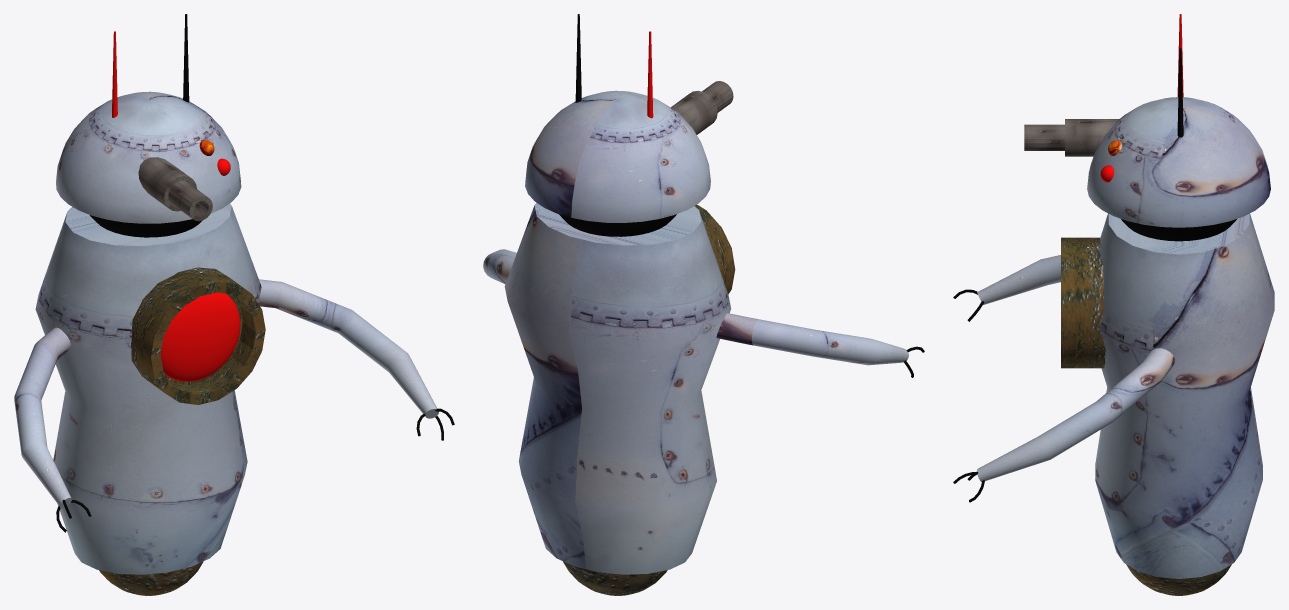
File: Robot.fbx
3 views of the same model, side by side, from view 1: azimuth 30°, elevation 25°; view 2: azimuth 150°, elevation 25°; view 3: azimuth 270°, elevation 25° (orthographic).
Parts seen in each view (by area): view 1: Cylinder001, Sphere001, Cylinder007, Cylinder014, Sphere006, Cylinder002, Cylinder004, Sphere002, Sphere003; view 2: Cylinder001, Sphere001, Cylinder002, Cylinder004, Sphere002, Sphere003, Cylinder007, Cylinder014; view 3: Cylinder001, Sphere001, Cylinder014, Cylinder007, Cylinder004, Cylinder002, Sphere002, Sphere003.
Part boxes in pixels (bbox=[...]): Cylinder001: bbox=[35, 203, 261, 574]; Sphere001: bbox=[56, 91, 241, 223]; Cylinder007: bbox=[131, 267, 265, 404]; Cylinder014: bbox=[258, 279, 438, 418]; Sphere006: bbox=[160, 292, 240, 381]; Cylinder002: bbox=[14, 327, 71, 508]; Cylinder004: bbox=[138, 157, 212, 221]; Sphere002: bbox=[99, 561, 203, 595]; Sphere003: bbox=[90, 215, 201, 237]; Cylinder001: bbox=[504, 203, 731, 574]; Sphere001: bbox=[525, 90, 710, 222]; Cylinder002: bbox=[716, 313, 908, 365]; Cylinder004: bbox=[671, 81, 733, 134]; Sphere002: bbox=[563, 561, 667, 595]; Sphere003: bbox=[559, 214, 676, 236]; Cylinder007: bbox=[695, 204, 735, 294]; Cylinder014: bbox=[483, 249, 516, 284]; Cylinder001: bbox=[1095, 213, 1274, 578]; Sphere001: bbox=[1087, 97, 1270, 227]; Cylinder014: bbox=[977, 348, 1174, 481]; Cylinder007: bbox=[1061, 237, 1105, 368]; Cylinder004: bbox=[1024, 119, 1118, 156]; Cylinder002: bbox=[977, 255, 1060, 304]; Sphere002: bbox=[1126, 564, 1231, 595]; Sphere003: bbox=[1121, 219, 1236, 241].
Size of the model in its own units: 1.57 by 1.14 by 2.2.
Materials: 6 (4 with a texture image).
